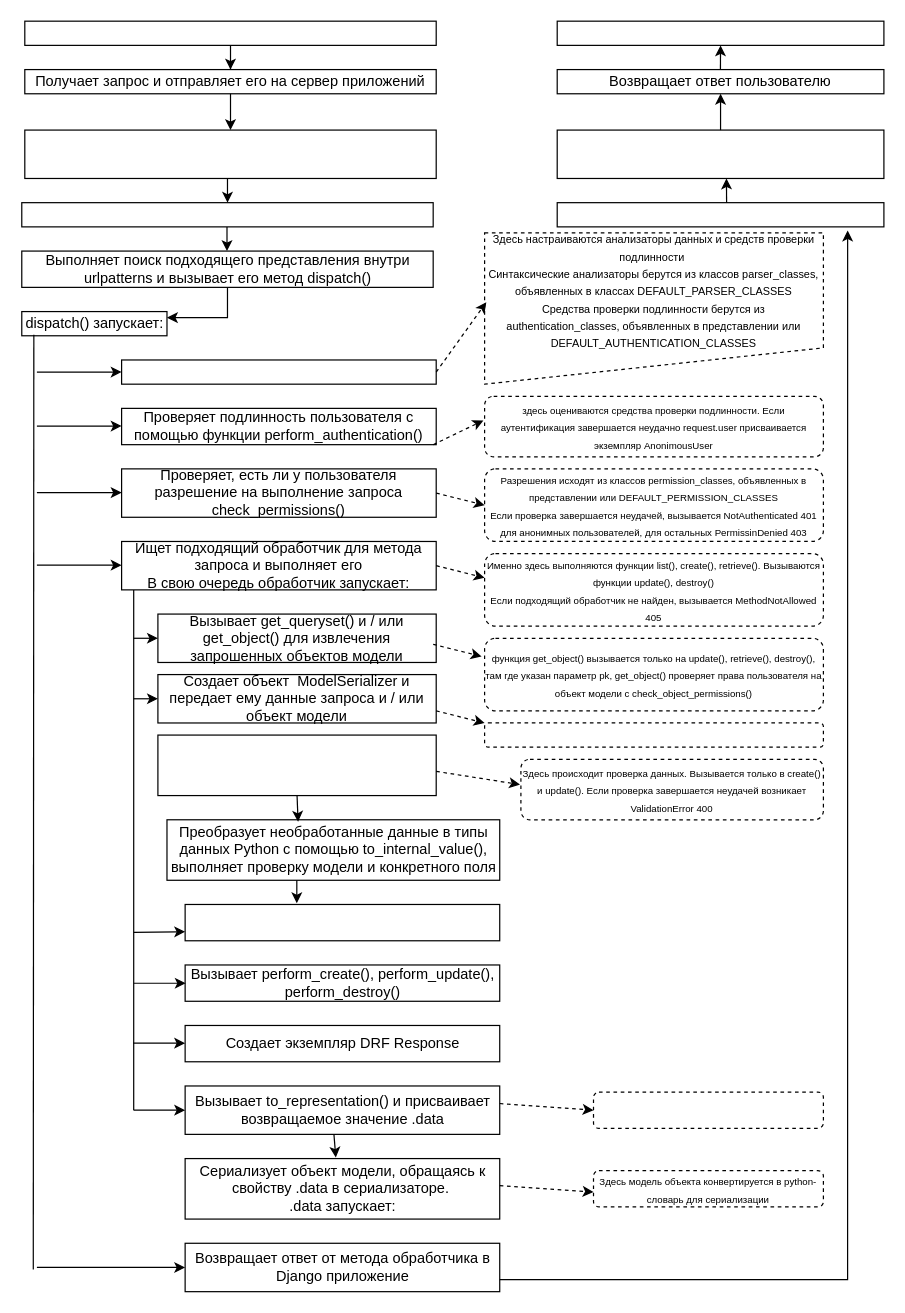
The diagram is 905 pixels wide and 1313 high, and some of its shapes have lost their labels. The shapes that lost their labels are listed below. From the top down, each one's box as (x1, y1, x2, y2) in pixels, then its label:
(24, 20, 436, 45): Пользователь делает запрос API URL адреса
(556, 20, 884, 45): Пользователь получает ответ
(24, 129, 436, 178): Создает экземпляр Django приложения и пересылает ему запрос
(556, 129, 884, 178): Возвращает ответ вебсерверу
(21, 201, 433, 227): Обрабатывает запрос через middleware
(556, 201, 884, 227): передает ответ через middleware
(120, 359, 436, 384): Преобразует Http-request в DRF-Request
(483, 722, 823, 747): происходит проверка / сериализация
(157, 734, 436, 796): Вызывается is_valid(raise_exception=True) в сериализаторе, is_valid() запускает:
(184, 903, 500, 941): Запускает пользовательскую проверку с помощью validate_field_name() и validate()
(592, 1091, 823, 1128): Доступ к свойству .data недоступен в destroy
